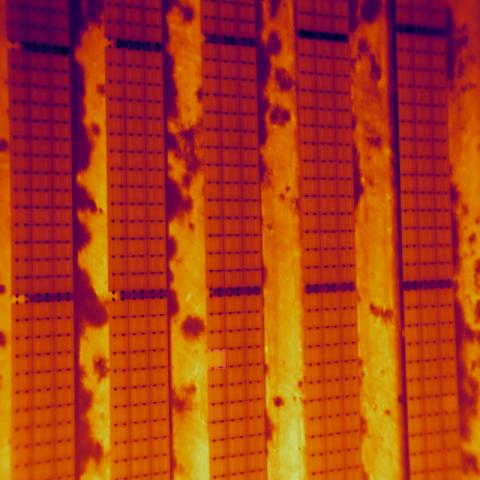fault: (207, 349, 226, 369)
